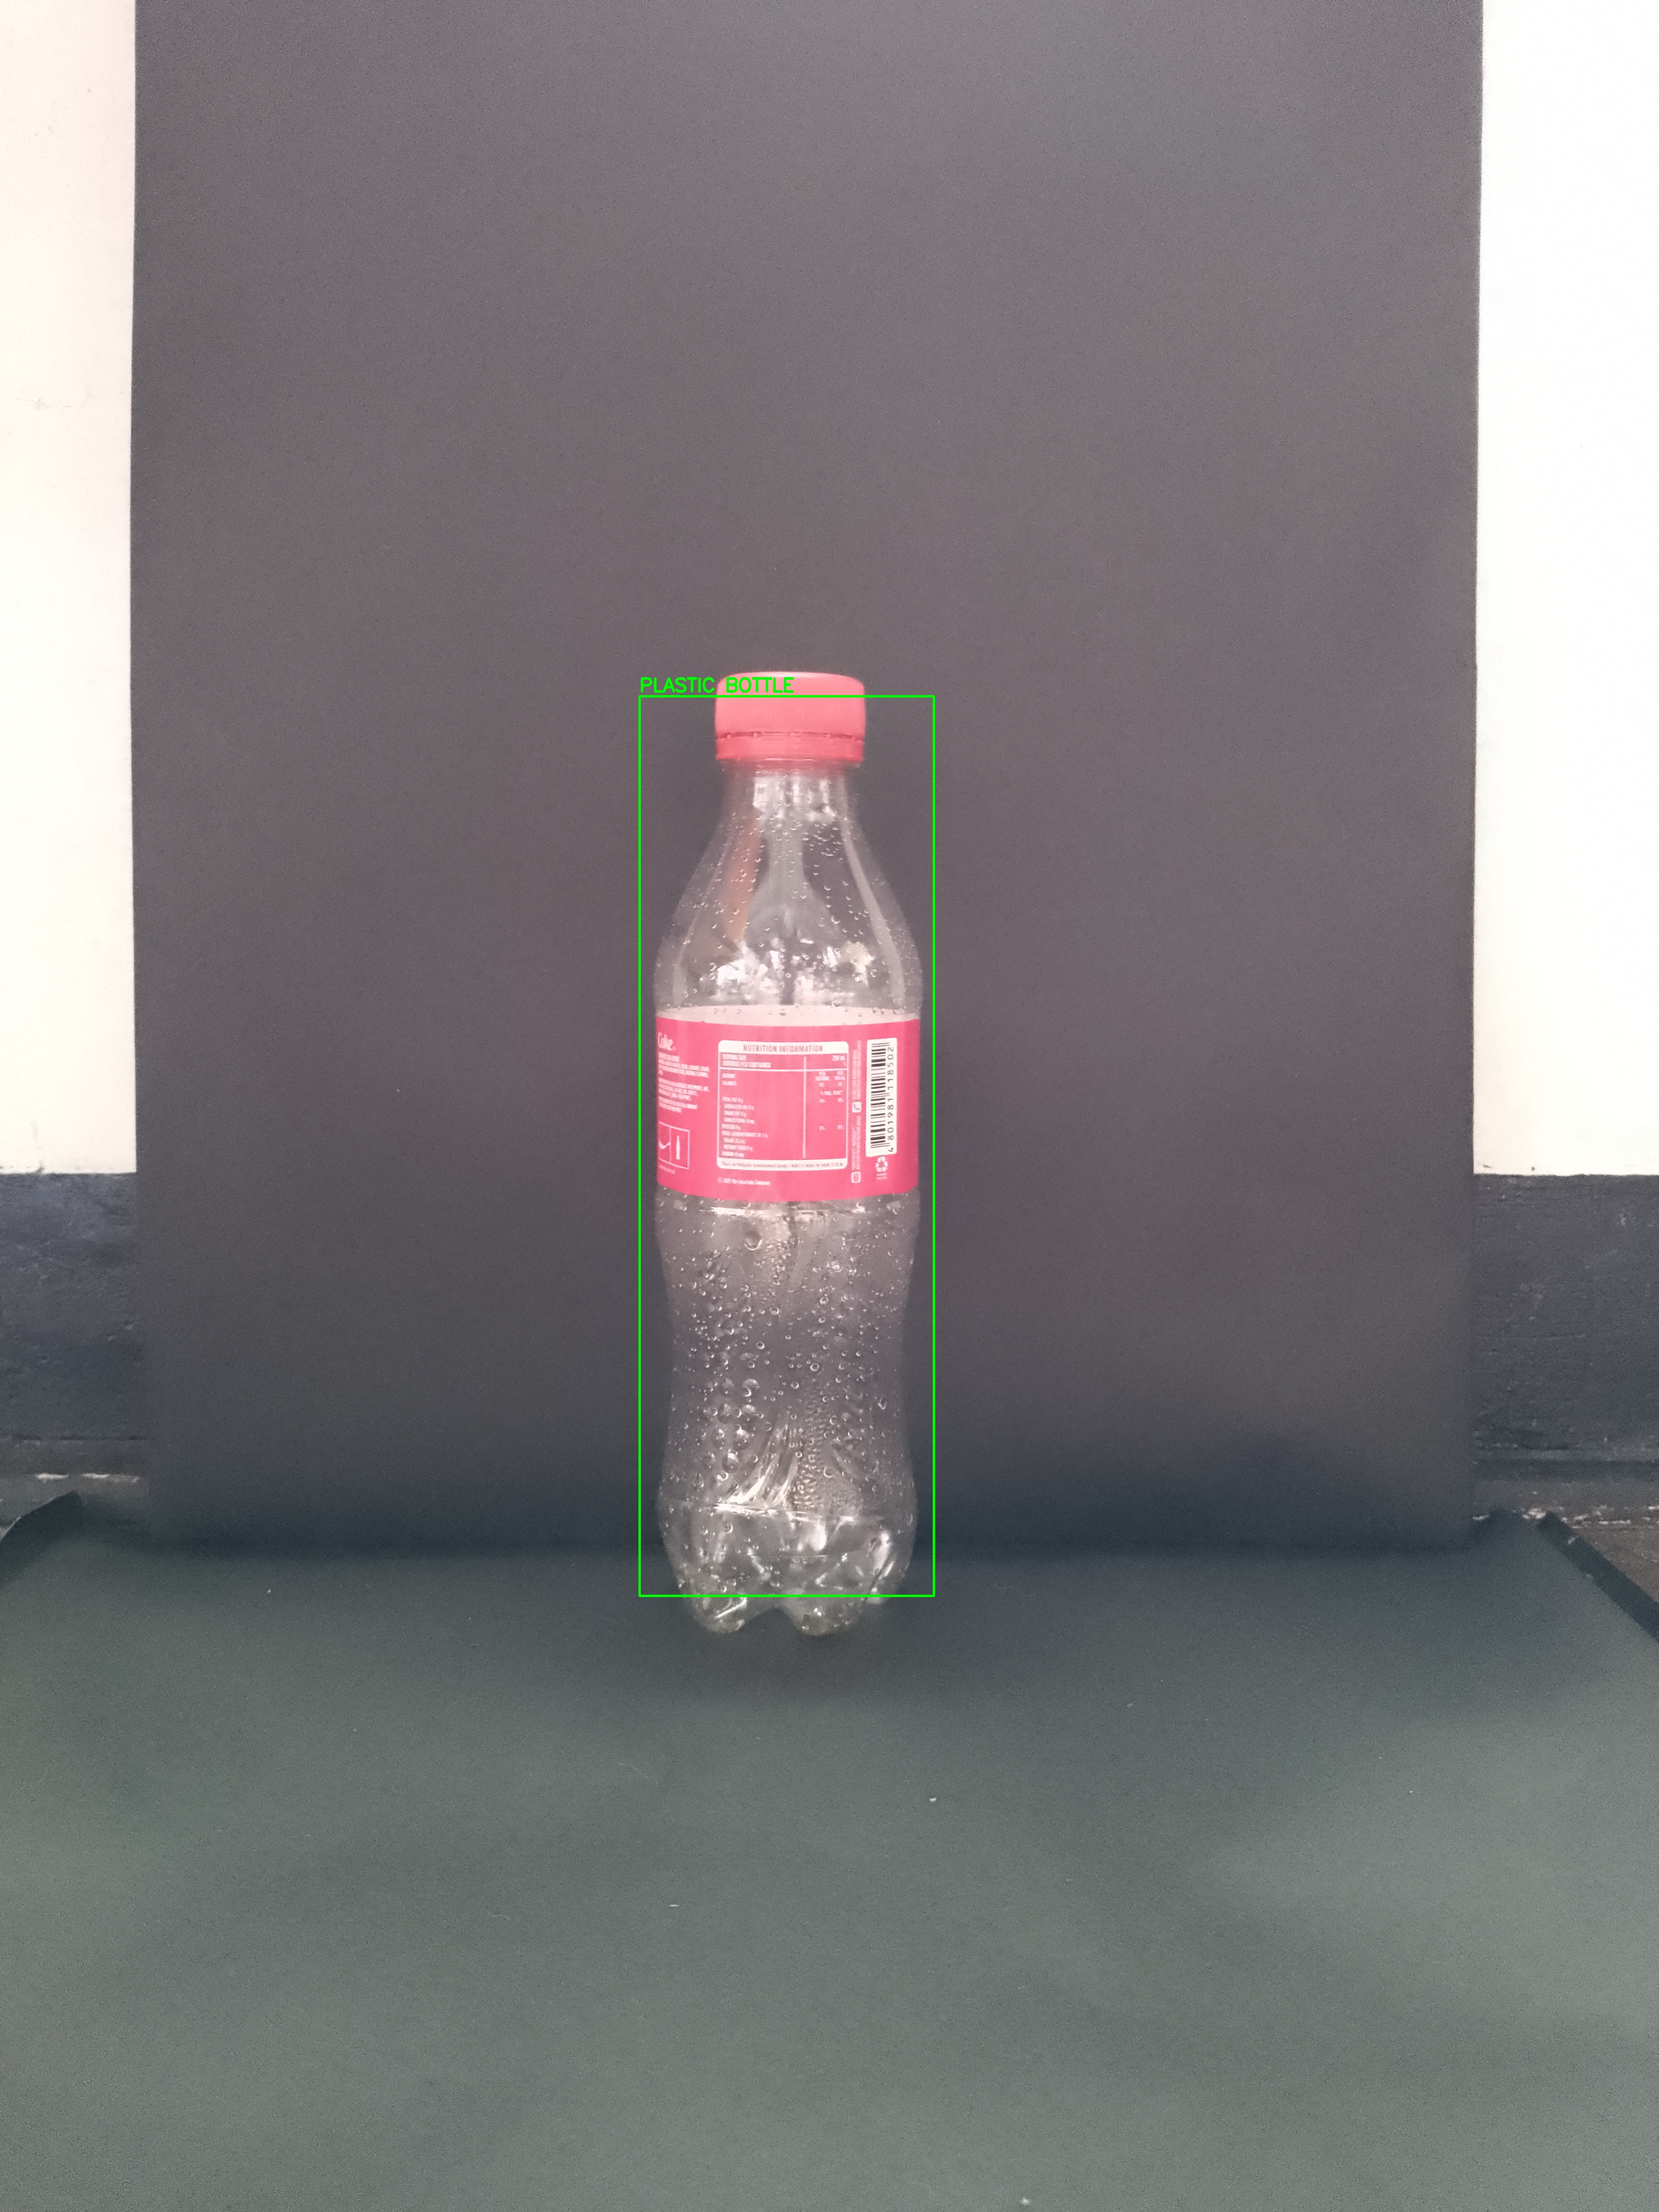plastic bottle: (636, 655, 943, 1653)
